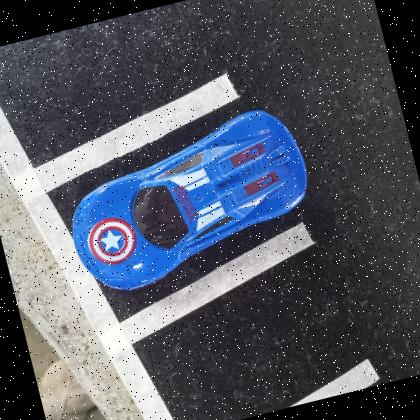Car: (68, 107, 307, 289)
